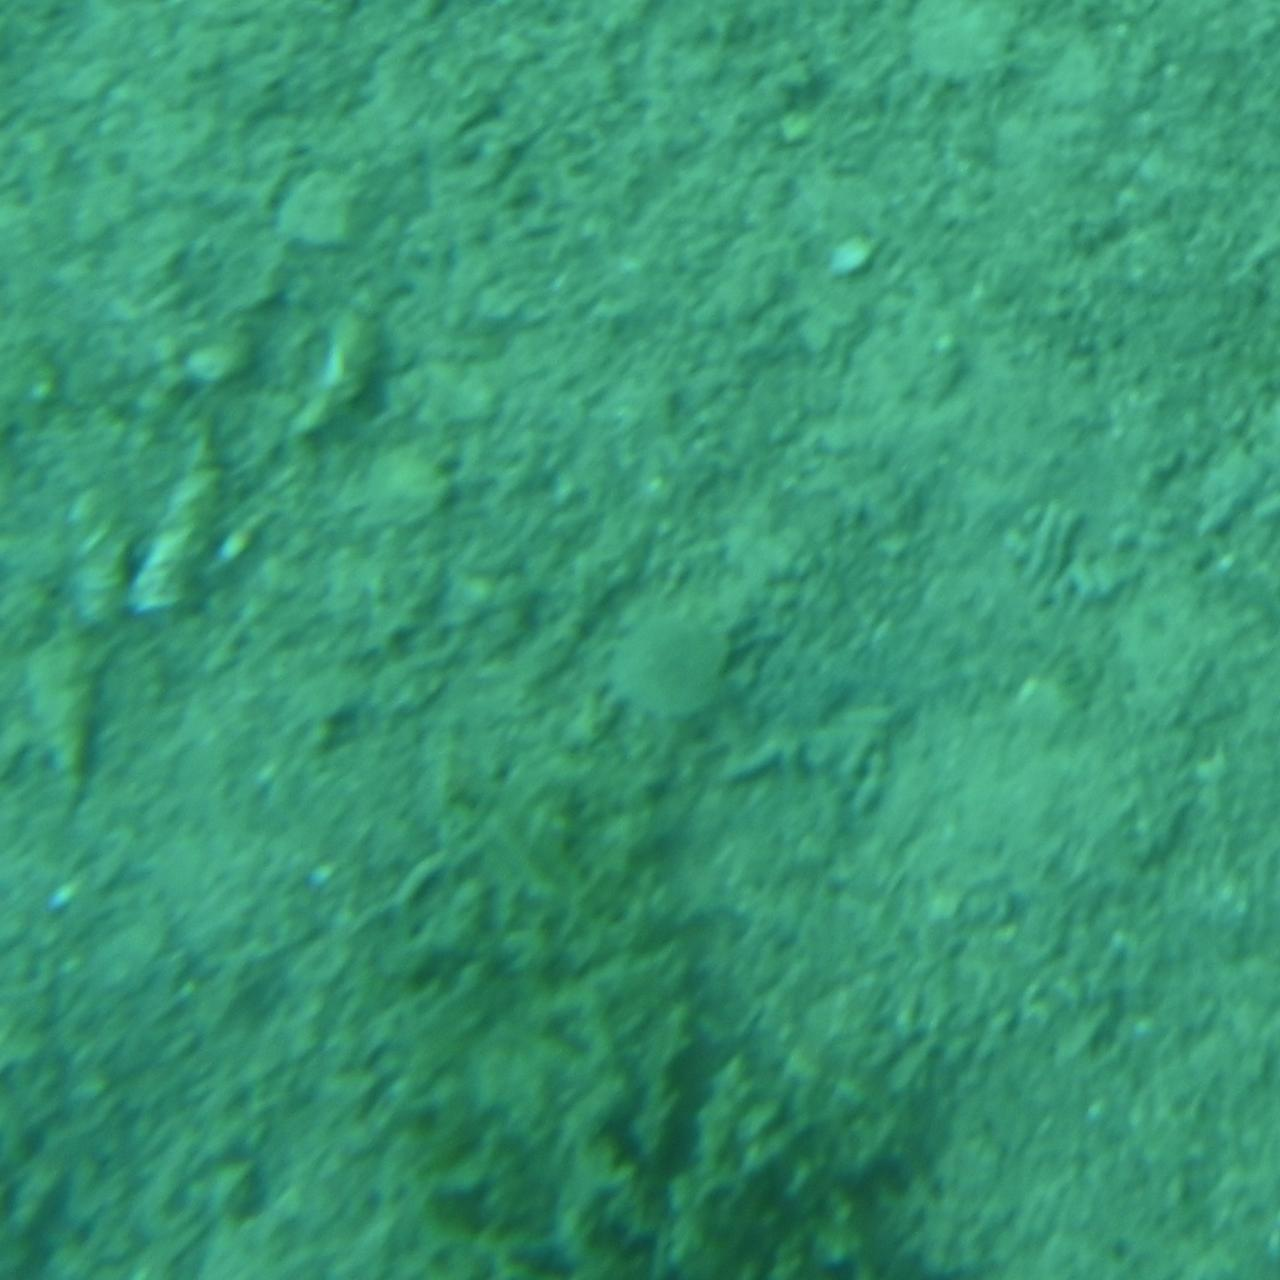Phaeophyceae -cfr Cystoseira-: (350, 783, 930, 1279)
